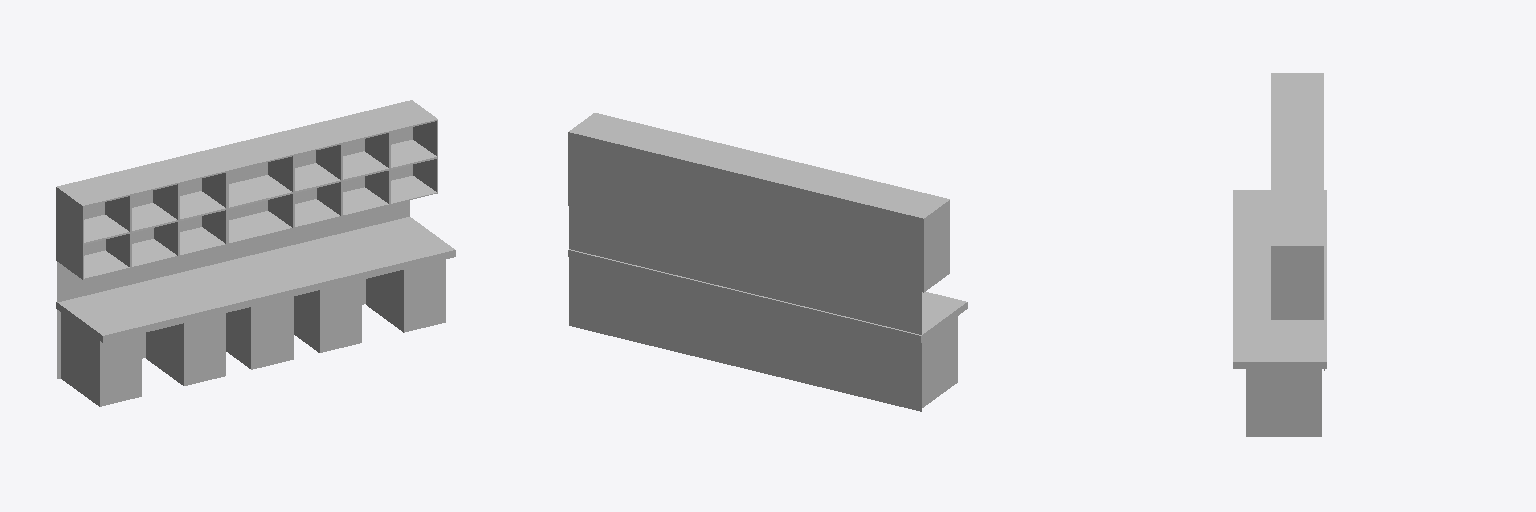
File: Repisas.obj
The picture shows the model from 3 angles: view 1: azimuth 30°, elevation 25°; view 2: azimuth 150°, elevation 25°; view 3: azimuth 270°, elevation 25°; orthographic projection.
Parts seen in each view (by area): view 1: Plane; view 2: Plane; view 3: Plane.
Boxes of the visible parts, box(x1,y1,x2,y2) form: Plane: box(56, 100, 455, 406); Plane: box(568, 113, 967, 411); Plane: box(1233, 73, 1326, 436).
Size of the model in its own units: 4.51 by 2.34 by 1.02.